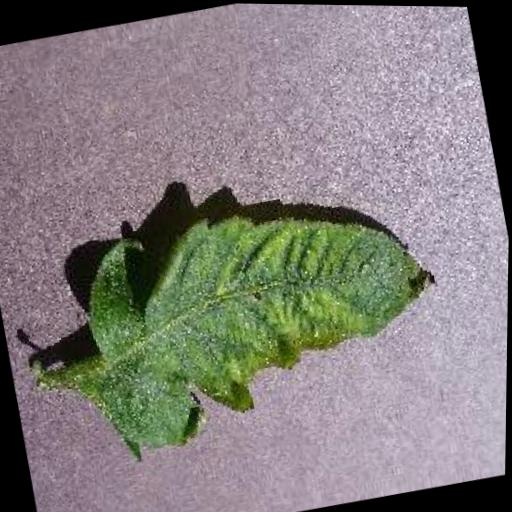Mosaic Virus: (66, 173, 464, 469)
